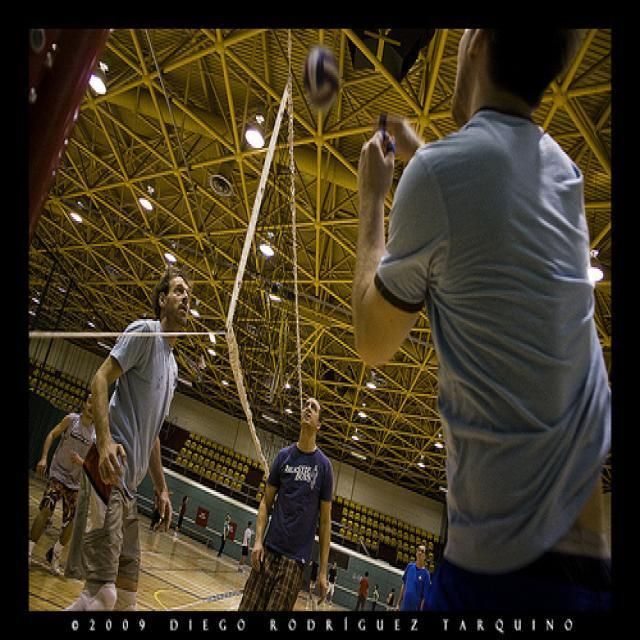volleyball: (303, 48, 340, 106)
